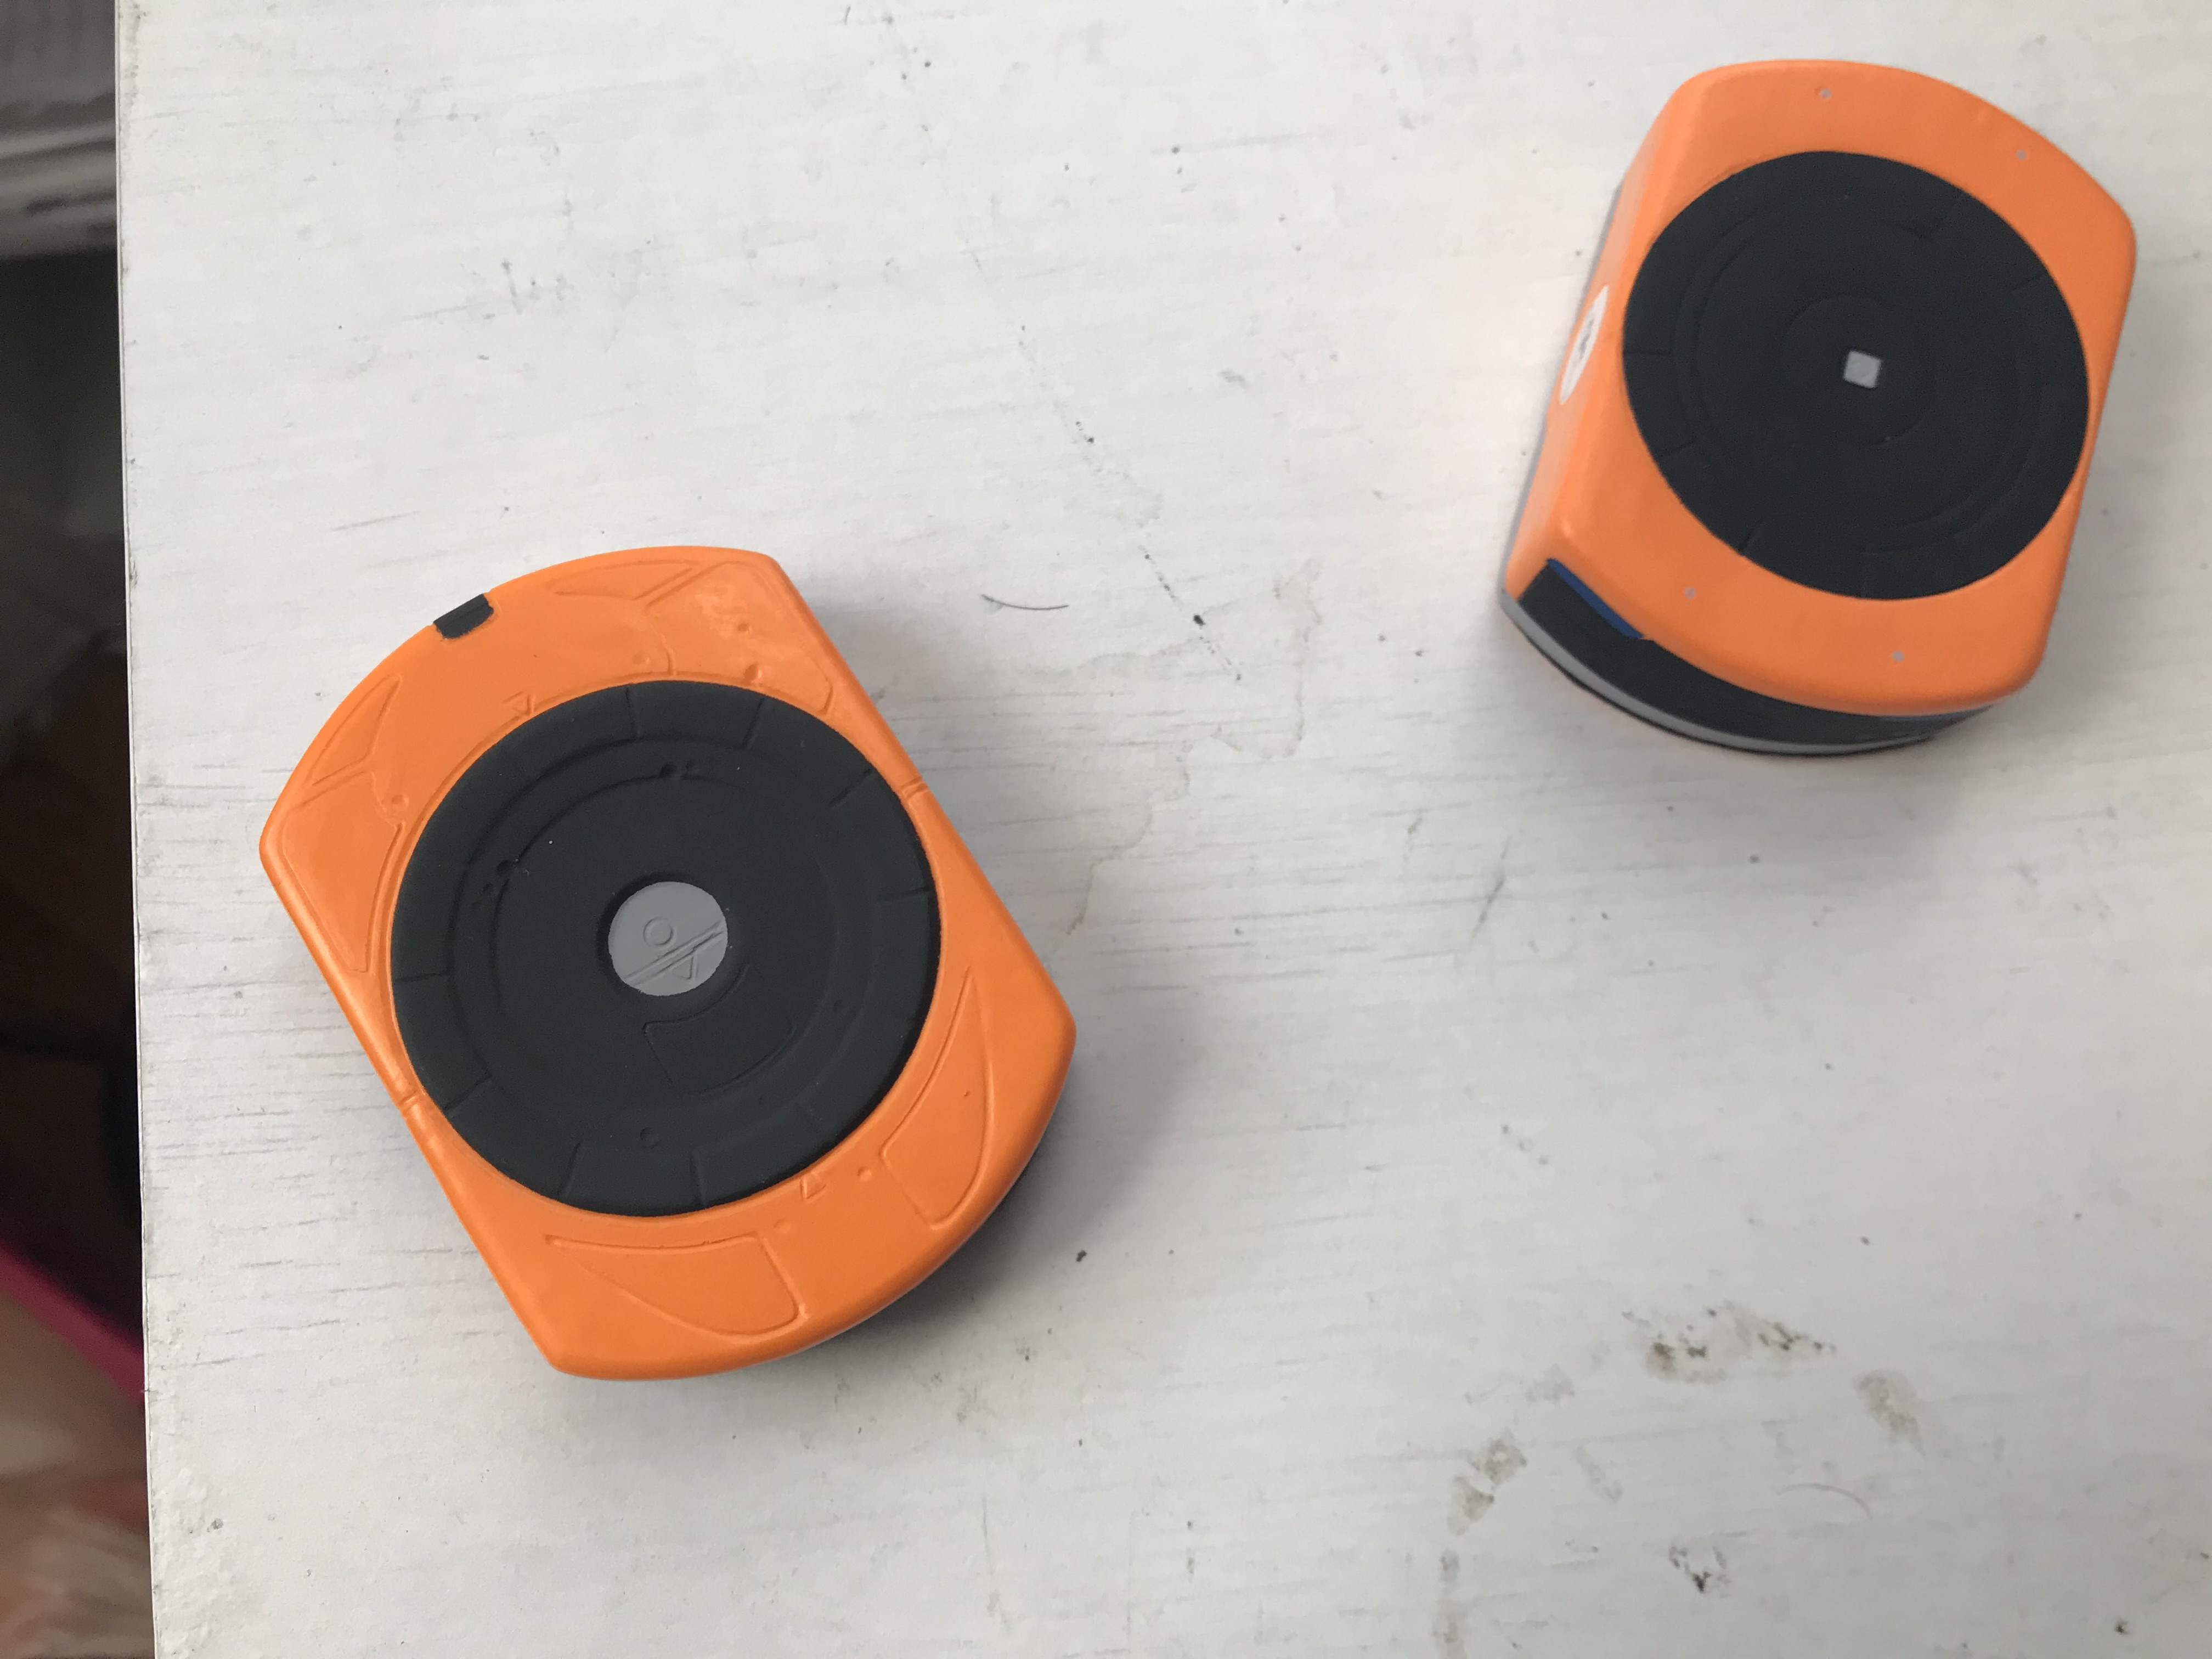amazon_bot: (249, 514, 1092, 1394), (1474, 49, 2181, 789)
